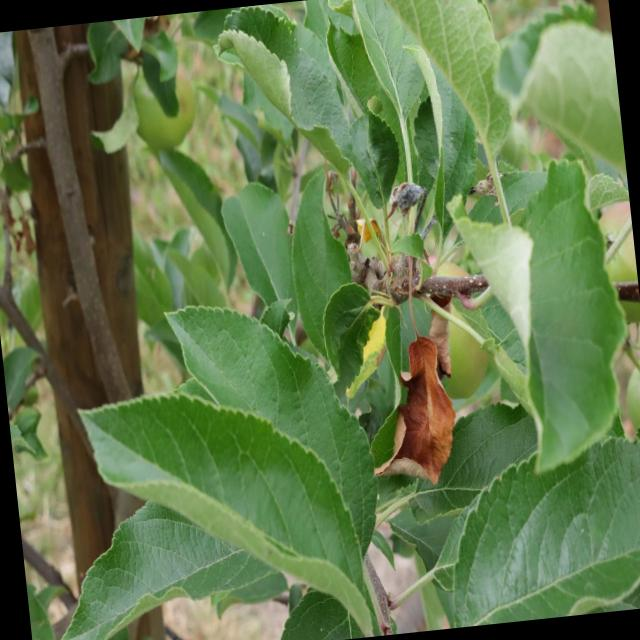-FireBlight-: (388, 256, 464, 488)
